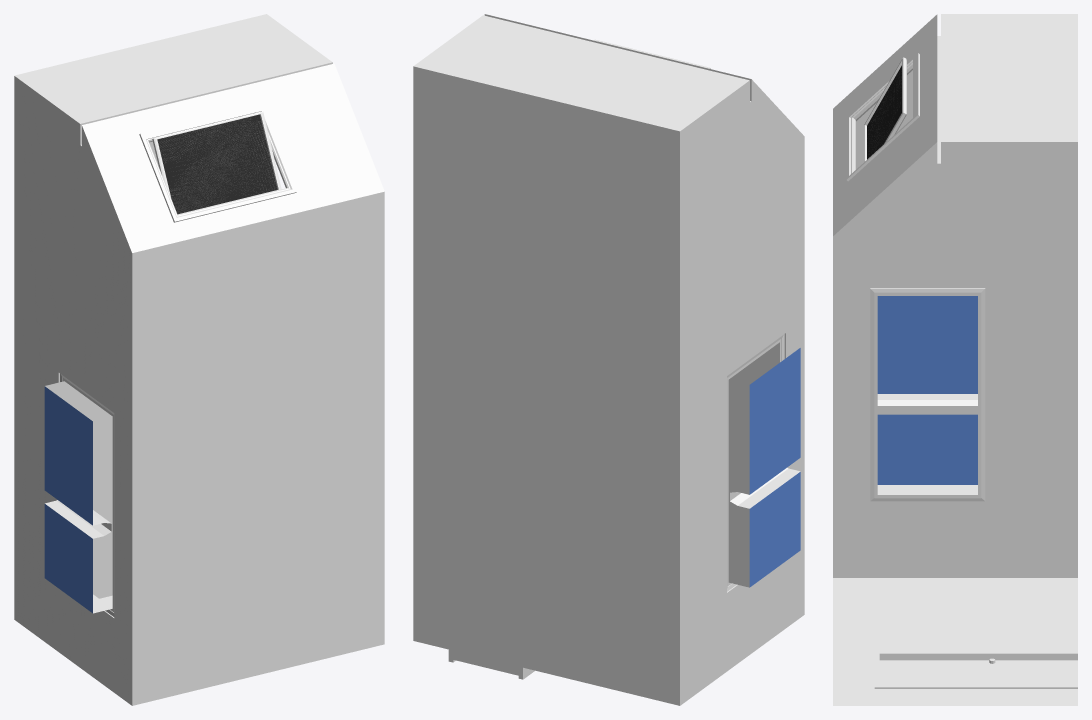
File: room13.obj
3 views of the same model, side by side, from view 1: azimuth 30°, elevation 25°; view 2: azimuth 150°, elevation 25°; view 3: azimuth 270°, elevation 25° (orthographic). The views are drawn at different scales.
Parts seen in each view (by area): view 1: room13; view 2: room13; view 3: room13.
Boxes of the visible parts, bbox=[...] form: room13: bbox=[14, 14, 384, 705]; room13: bbox=[413, 14, 804, 705]; room13: bbox=[833, 14, 1077, 705].
Bounding box in the file's own units: 131 × 257 × 98.76.
